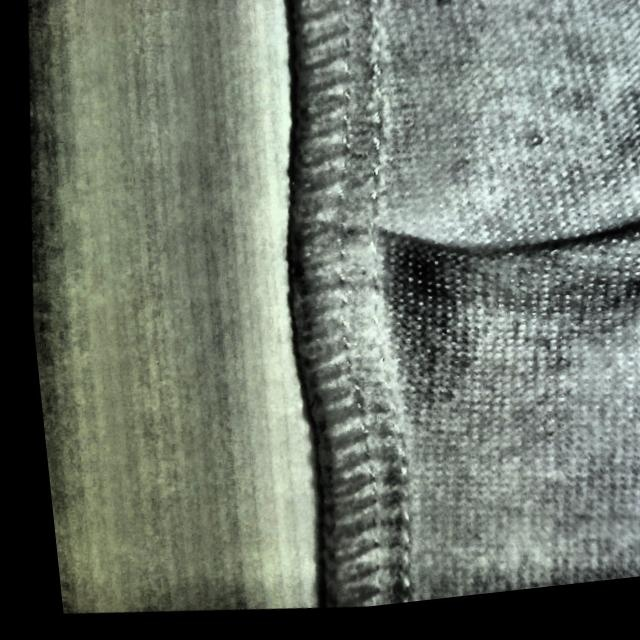seam: (268, 145, 626, 379)
